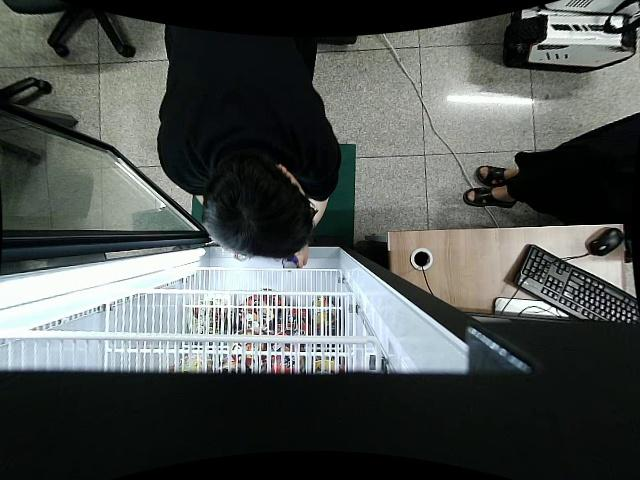00_hand: (293, 240, 311, 271)
14_welchsGrape: (282, 257, 301, 273)
